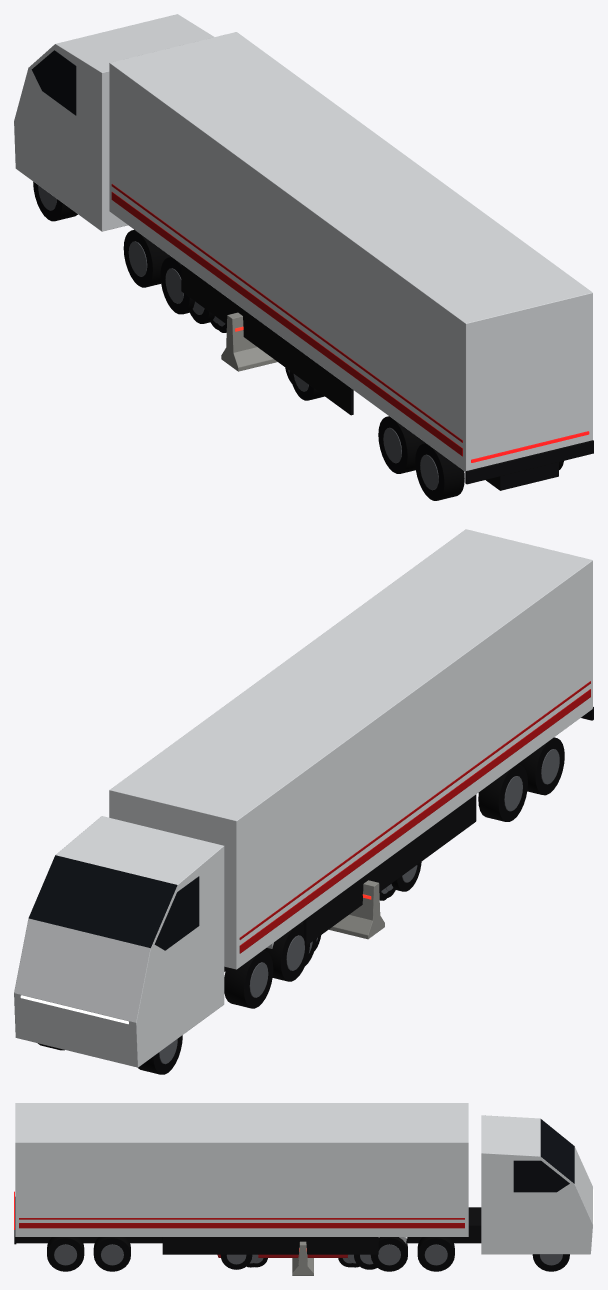
File: vehicles.glb
3 renders of one model, top to bottom at view 1: azimuth 30°, elevation 25°; view 2: azimuth 150°, elevation 25°; view 3: azimuth 270°, elevation 25°, orthographic. The views are drawn at different scales.
Parts seen in each view (by area): view 1: Semi_Mesh, Barrier_Mesh, Pickup_Mesh; view 2: Semi_Mesh, Barrier_Mesh; view 3: Semi_Mesh, Pickup_Mesh, Sedan_Mesh, Barrier_Mesh.
Part boxes in pixels (x1,y1,x2,y2): Semi_Mesh: (14,14,593,500); Barrier_Mesh: (221,312,277,371); Pickup_Mesh: (190,301,324,400); Semi_Mesh: (14,529,593,1074); Barrier_Mesh: (329,880,384,939); Semi_Mesh: (14,1103,593,1271); Pickup_Mesh: (220,1237,407,1269); Sedan_Mesh: (217,1254,359,1267); Barrier_Mesh: (292,1241,313,1275).
Size of the model in its own units: 3 by 4 by 16.12.
